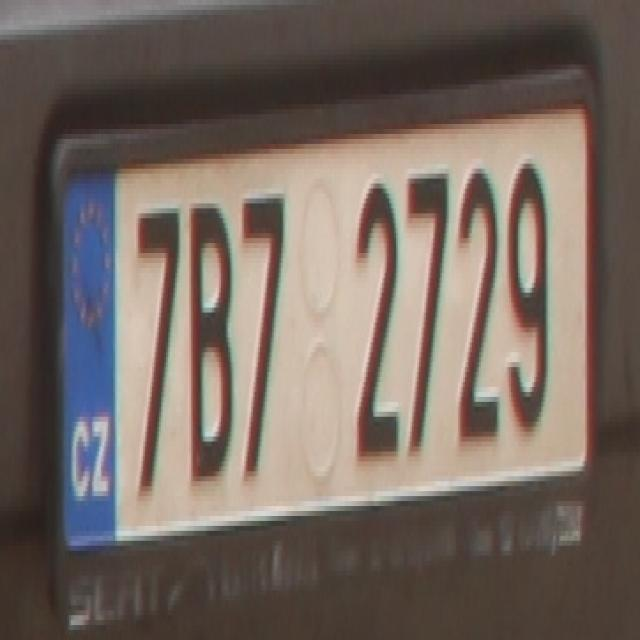2: (456, 168, 502, 446), (353, 174, 398, 452)
7: (132, 208, 178, 496), (238, 184, 284, 466), (403, 164, 449, 446)
9: (506, 158, 550, 432)
B: (184, 194, 233, 472)
